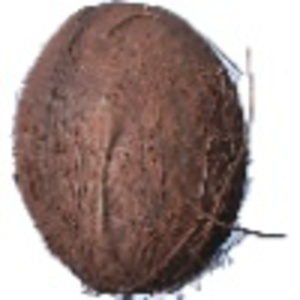coco: (12, 1, 284, 300)
